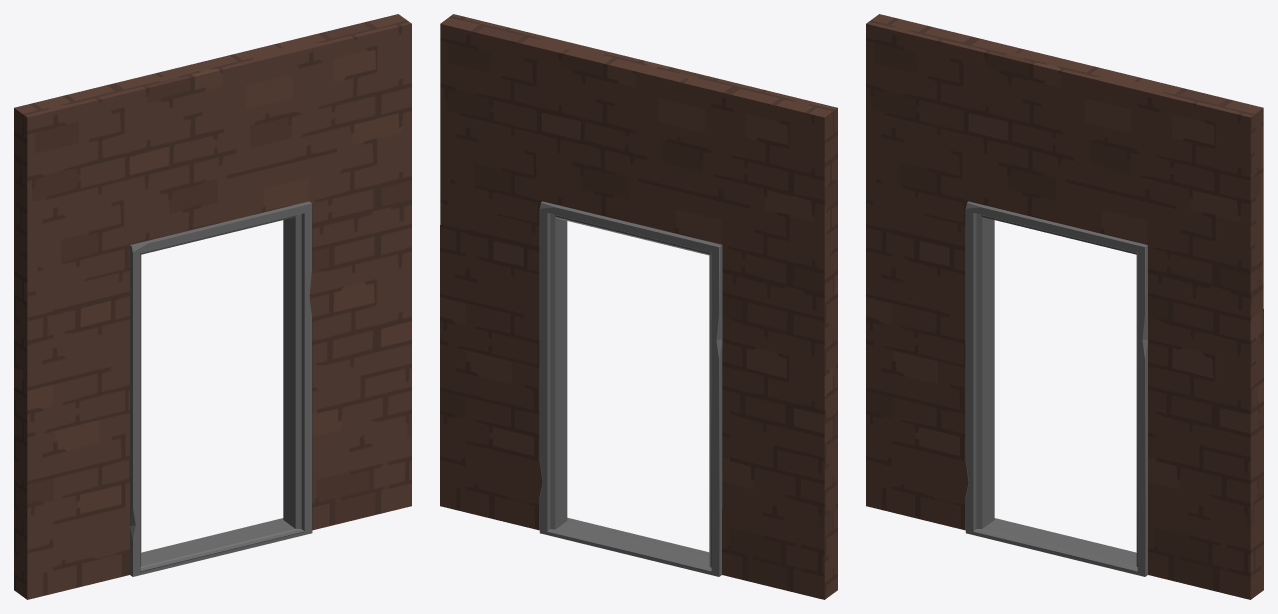
The model's file is Door_frame.fbx.
3 views of the same model, side by side, from view 1: azimuth 30°, elevation 25°; view 2: azimuth 150°, elevation 25°; view 3: azimuth 330°, elevation 25° (orthographic).
Parts seen in each view (by area): view 1: SM_Bld_Wall_Brick_Door_01.001; view 2: SM_Bld_Wall_Brick_Door_01.001; view 3: SM_Bld_Wall_Brick_Door_01.001.
Part boxes in pixels (x1,y1,x2,y2): SM_Bld_Wall_Brick_Door_01.001: (14, 14, 411, 599); SM_Bld_Wall_Brick_Door_01.001: (440, 14, 837, 599); SM_Bld_Wall_Brick_Door_01.001: (866, 14, 1263, 599).
Size of the model in its own units: 250 by 300 by 21.54.
